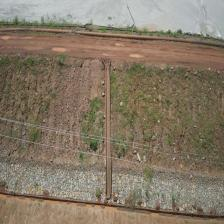rock toe: (112, 168, 224, 215), (0, 162, 105, 203)
slope drain: (105, 60, 111, 199)
